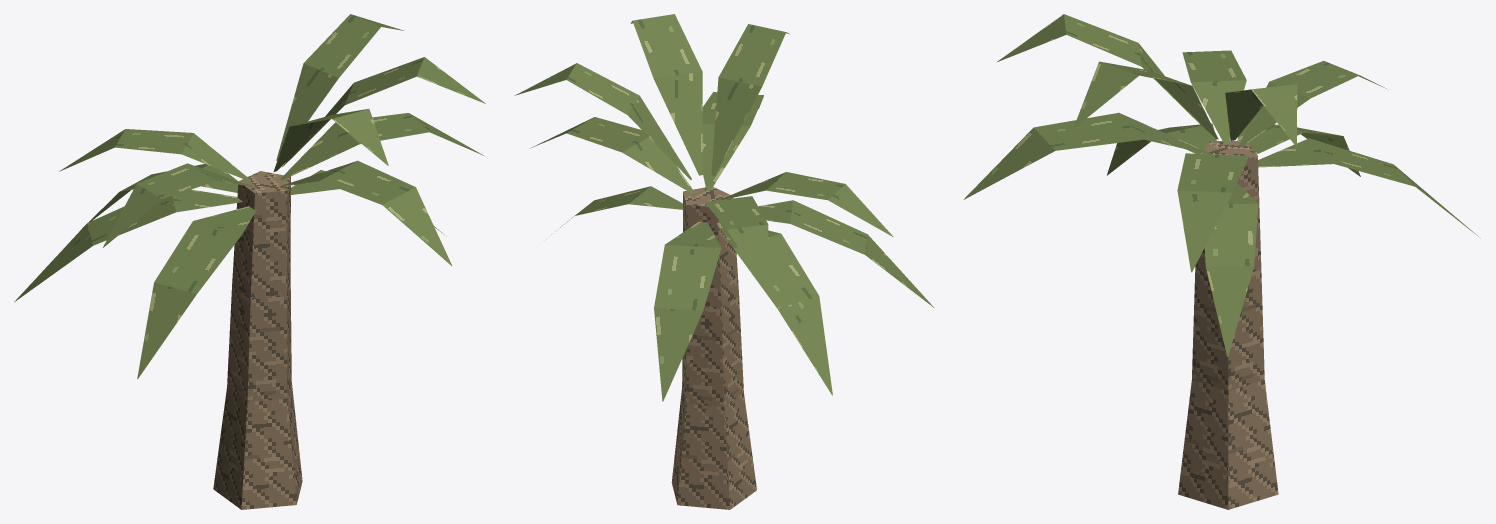
Rendered from canary-date-mid.glb.
3 views of the same model, side by side, from view 1: azimuth 30°, elevation 25°; view 2: azimuth 150°, elevation 25°; view 3: azimuth 270°, elevation 25° (orthographic). The views are drawn at different scales.
Visible parts, largest first — view 1: crown_canary-date-mid, trunk_canary-date-mid; view 2: crown_canary-date-mid, trunk_canary-date-mid; view 3: crown_canary-date-mid, trunk_canary-date-mid.
Boxes of the visible parts, <box> form: crown_canary-date-mid: <box>14,14,485,378</box>; trunk_canary-date-mid: <box>213,171,302,509</box>; crown_canary-date-mid: <box>514,14,934,401</box>; trunk_canary-date-mid: <box>671,187,756,509</box>; crown_canary-date-mid: <box>963,14,1480,356</box>; trunk_canary-date-mid: <box>1178,141,1278,509</box>.
Size of the model in its own units: 8.73 by 9.18 by 9.01.
2 materials, 2 textured.
